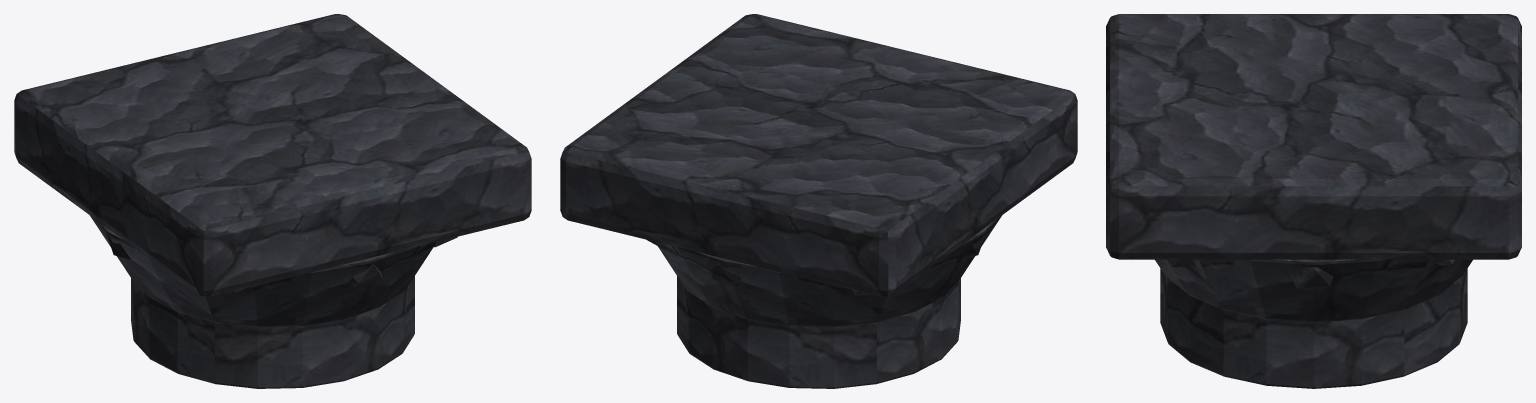
File: column_capital__basalt.glb
3 views of the same model, side by side, from view 1: azimuth 30°, elevation 25°; view 2: azimuth 150°, elevation 25°; view 3: azimuth 270°, elevation 25° (orthographic). The views are drawn at different scales.
Parts seen in each view (by area): view 1: model; view 2: model; view 3: model.
Part boxes in pixels (x1,y1,x2,y2): model: (14,14,531,388); model: (560,14,1077,388); model: (1106,14,1521,388).
Bounding box in the file's own units: 0.8 × 0.485 × 0.8.
Materials: 2 (2 with a texture image).
